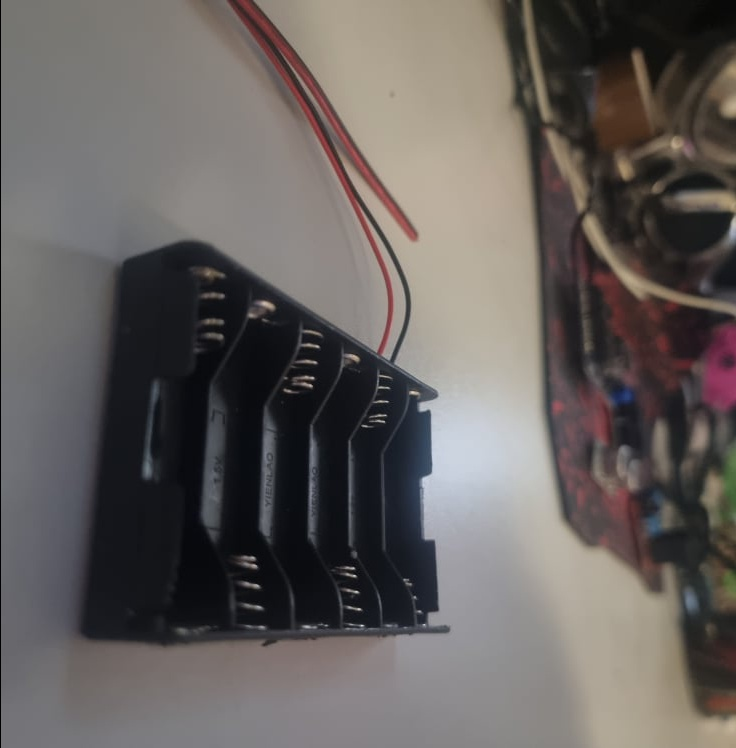BATTERY BOX: (79, 240, 447, 644)
